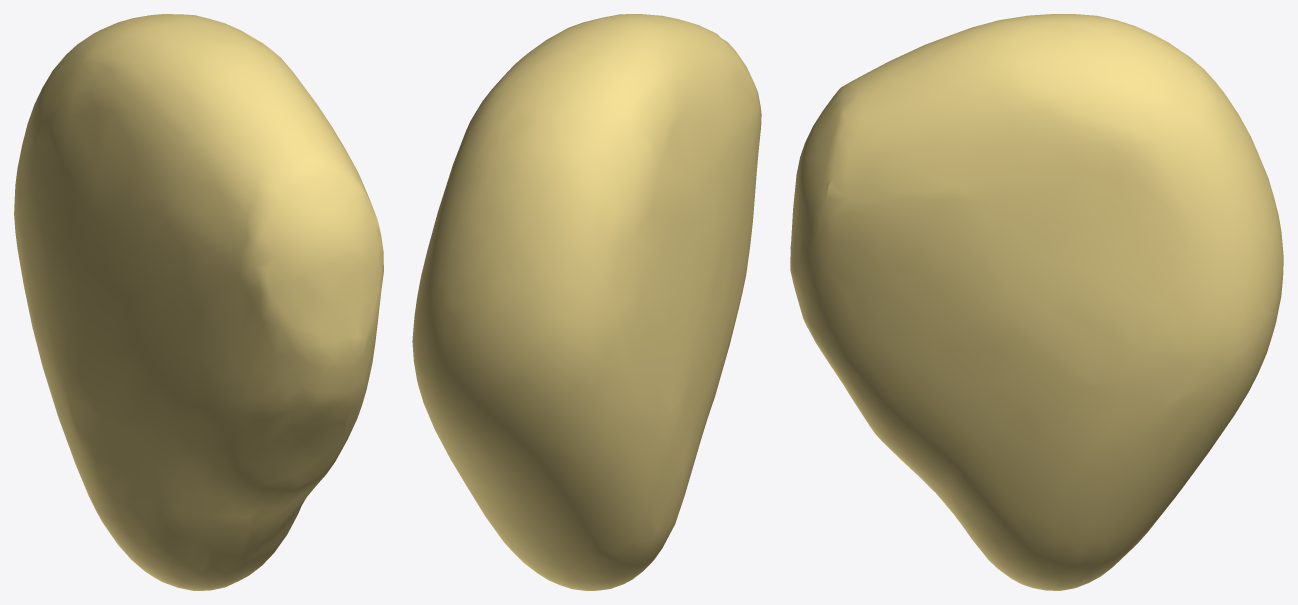
File: fma83886_mm3224.glb
3 renders of one model, left to right at view 1: azimuth 30°, elevation 25°; view 2: azimuth 150°, elevation 25°; view 3: azimuth 270°, elevation 25°, orthographic.
Parts seen in each view (by area): view 1: FMA83886_MM3224; view 2: FMA83886_MM3224; view 3: FMA83886_MM3224.
Part boxes in pixels (x1,y1,x2,y2): FMA83886_MM3224: (14, 14, 383, 590); FMA83886_MM3224: (412, 14, 761, 590); FMA83886_MM3224: (790, 14, 1283, 590).
Bounding box in the file's own units: 0.0103 × 0.0238 × 0.0193.
